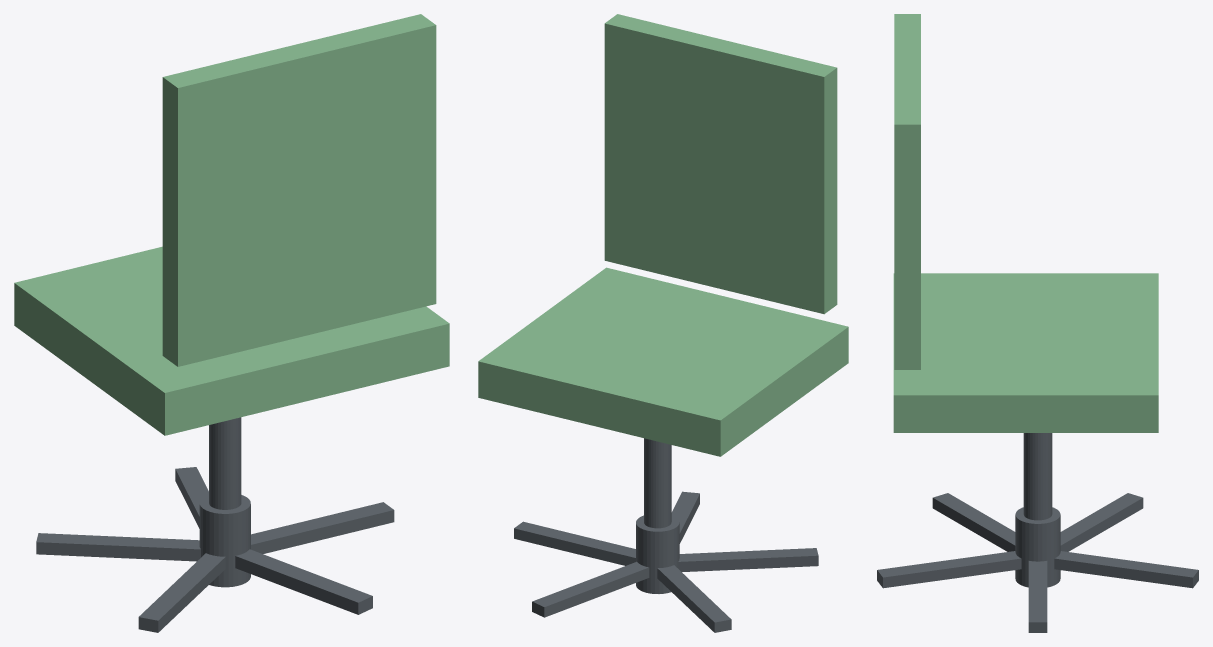
File: office_lounge_seating_reference_board_31.glb
The picture shows the model from 3 angles, left to right: view 1: azimuth 30°, elevation 25°; view 2: azimuth 150°, elevation 25°; view 3: azimuth 270°, elevation 25°; orthographic projection. The views are drawn at different scales.
Visible parts, largest first — view 1: Cylinder; view 2: Cylinder; view 3: Cylinder.
Boxes of the visible parts, <box> form: Cylinder: <box>14,14,449,632</box>; Cylinder: <box>478,14,848,632</box>; Cylinder: <box>877,14,1198,632</box>.
Size of the model in its own units: 0.5249 by 0.95 by 0.5436.
